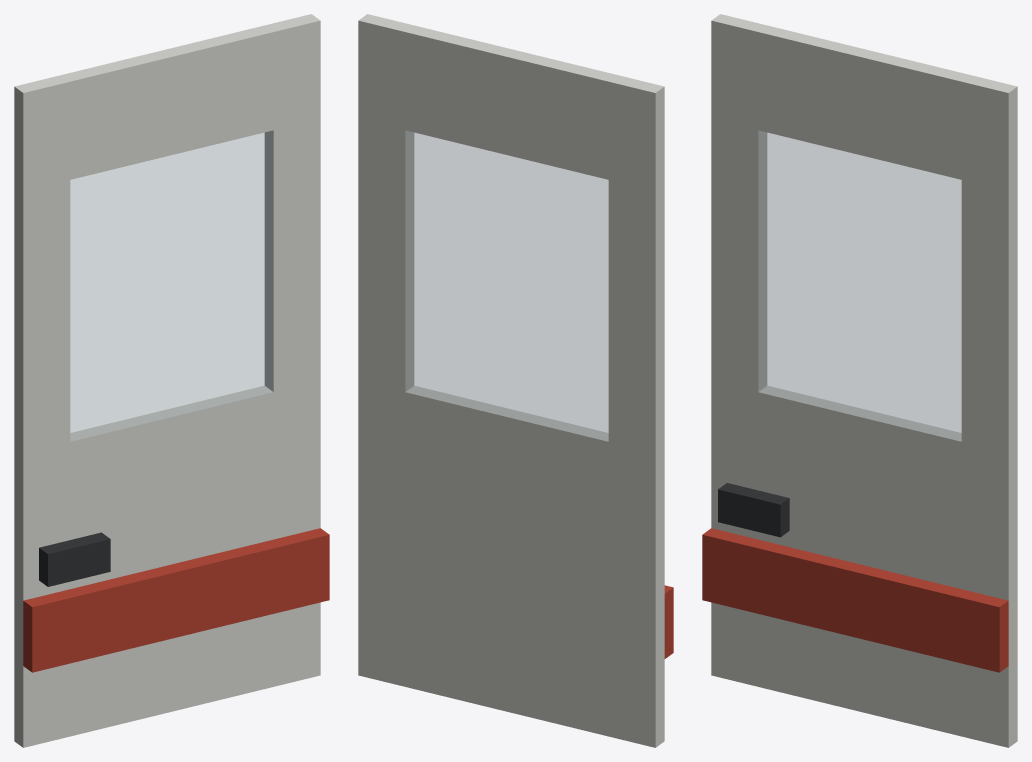
The model's file is caravan_door.glb.
3 renders of one model, left to right at view 1: azimuth 30°, elevation 25°; view 2: azimuth 150°, elevation 25°; view 3: azimuth 330°, elevation 25°, orthographic.
Parts seen in each view (by area): view 1: body:compound; view 2: body:compound; view 3: body:compound.
Boxes of the visible parts, x1,y1,x2,y2 form: body:compound: [14, 14, 329, 747]; body:compound: [358, 14, 673, 747]; body:compound: [702, 14, 1017, 747].
Bounding box in the file's own units: 0.5938 × 1.25 × 0.0625.
